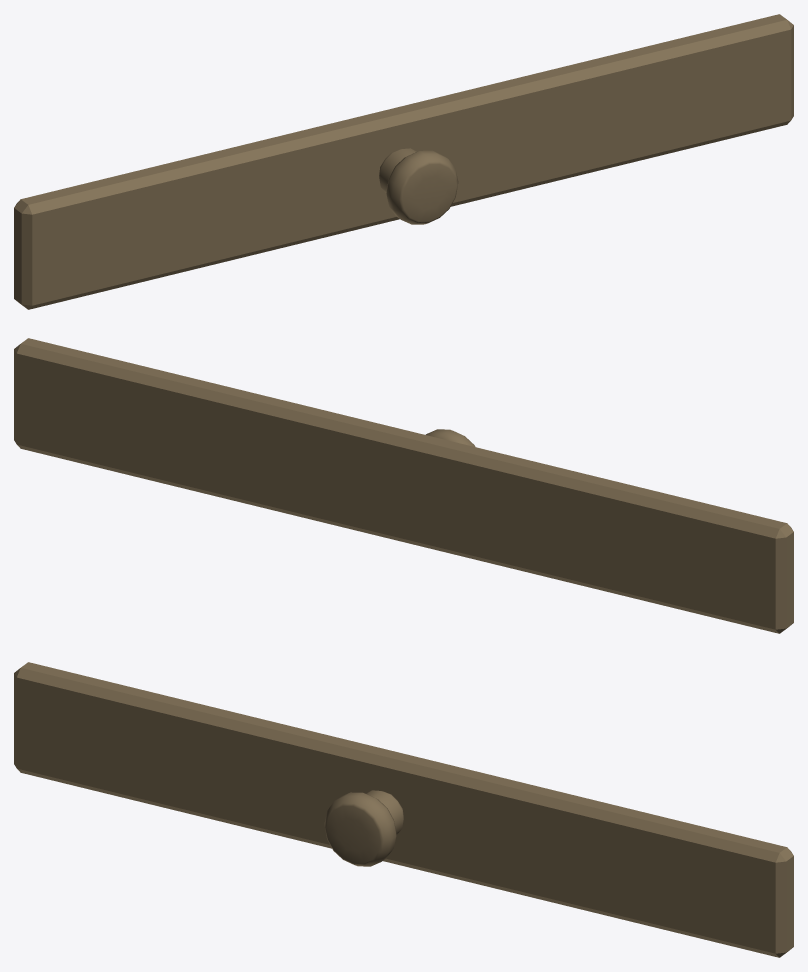
The model's file is Hanger01.fbx.
3 renders of one model, top to bottom at view 1: azimuth 30°, elevation 25°; view 2: azimuth 150°, elevation 25°; view 3: azimuth 330°, elevation 25°, orthographic.
Visible parts, largest first — view 1: Hanger, Rack; view 2: Hanger; view 3: Hanger, Rack.
Part boxes in pixels (x1=…): Hanger: x1=14, y1=14, x2=793, y2=309; Rack: x1=379, y1=148, x2=458, y2=224; Hanger: x1=14, y1=338, x2=793, y2=633; Hanger: x1=14, y1=662, x2=793, y2=957; Rack: x1=324, y1=790, x2=403, y2=866.
Size of the model in its own units: 11.09 by 1.44 by 1.15.
